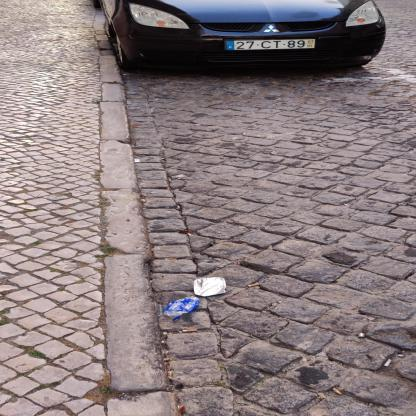metal: (194, 278, 227, 298)
plastik: (165, 297, 201, 321)
